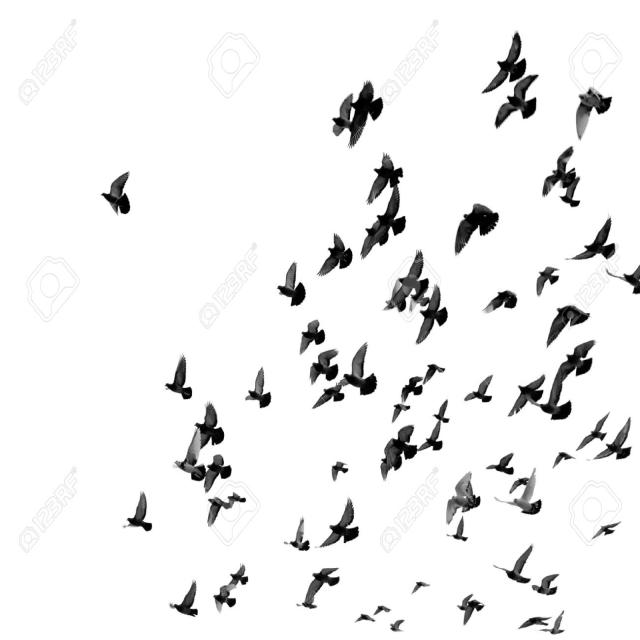bird: (455, 204, 503, 254), (348, 81, 388, 141), (488, 29, 526, 90), (496, 84, 542, 130), (535, 145, 575, 196), (572, 218, 620, 260), (576, 88, 616, 138), (510, 375, 556, 418), (360, 209, 398, 258), (416, 288, 451, 341), (549, 304, 593, 346), (346, 346, 382, 396), (323, 501, 361, 548), (495, 544, 535, 585), (537, 372, 576, 414), (601, 417, 637, 462), (372, 156, 408, 200), (320, 235, 356, 279), (304, 566, 341, 608), (175, 434, 206, 480), (577, 413, 612, 452), (196, 404, 227, 448), (448, 474, 482, 514), (557, 345, 597, 379), (325, 89, 352, 139), (103, 174, 134, 216), (396, 250, 430, 288), (278, 266, 307, 308), (171, 580, 201, 620), (609, 260, 640, 298), (166, 358, 194, 400), (247, 371, 275, 412), (206, 451, 234, 490), (127, 492, 153, 533), (308, 352, 339, 386), (462, 374, 494, 406), (415, 424, 447, 456), (456, 594, 486, 628), (283, 518, 311, 554), (381, 438, 404, 480), (482, 288, 519, 314), (382, 282, 412, 314), (208, 494, 238, 525), (300, 318, 328, 351), (312, 384, 346, 410), (298, 578, 325, 610), (512, 492, 545, 518), (529, 572, 559, 598), (486, 452, 516, 477), (536, 266, 561, 296), (518, 612, 550, 634), (214, 587, 238, 616), (447, 515, 471, 544), (542, 612, 567, 638), (421, 362, 447, 386), (223, 565, 250, 587), (400, 376, 423, 400), (590, 522, 622, 539), (432, 399, 450, 425), (551, 449, 575, 468), (392, 402, 412, 423), (332, 463, 351, 483), (411, 580, 430, 596), (357, 612, 378, 626), (390, 618, 408, 634), (372, 606, 392, 619)
